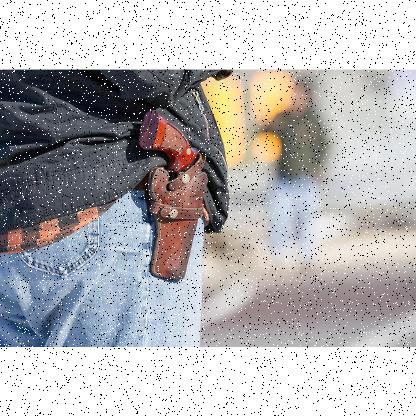gun: (136, 109, 206, 281)
